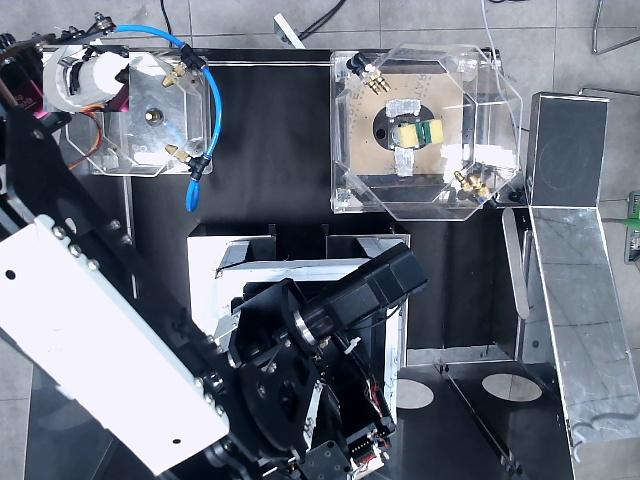cup: (43, 45, 129, 112)
